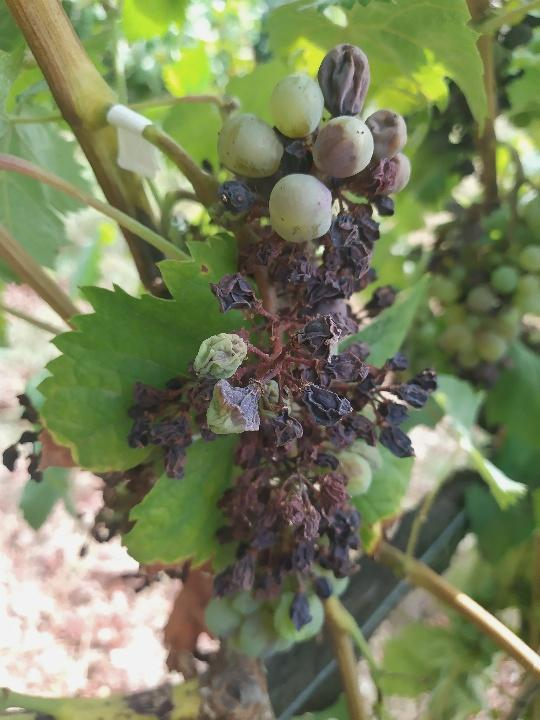grape: (119, 40, 444, 633)
